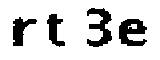3: (82, 3, 114, 51)
e: (118, 17, 147, 48)
r: (10, 17, 39, 49)
t: (45, 13, 69, 49)
